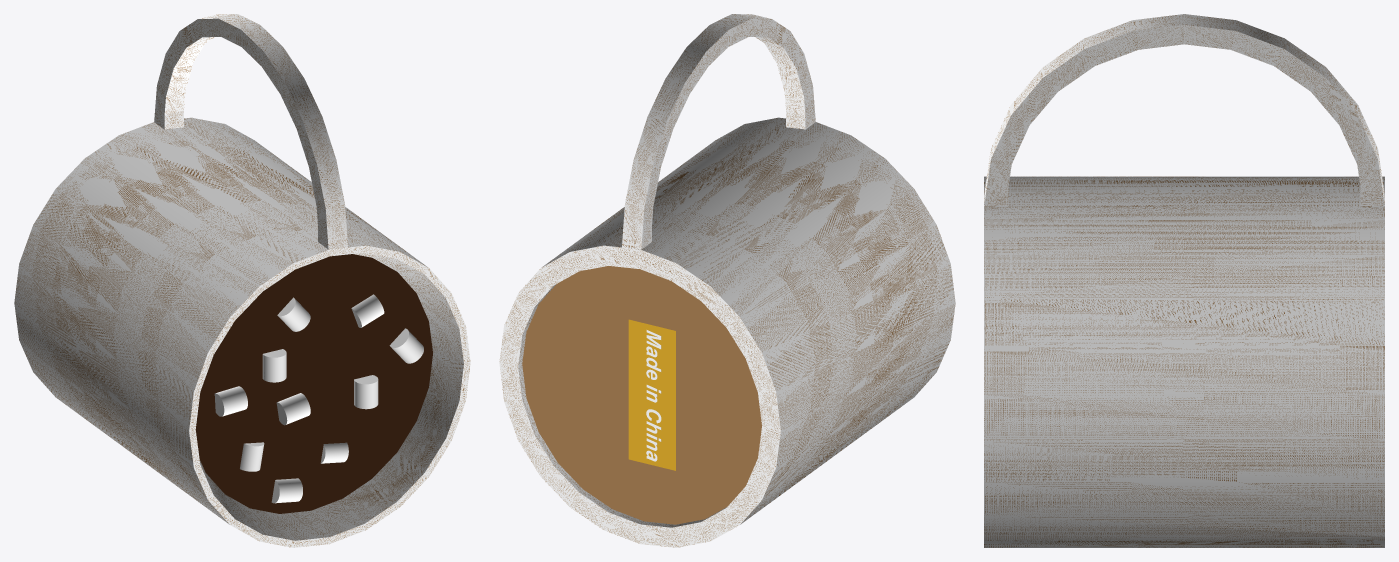
Rendered from model_align.obj.
3 renders of one model, left to right at view 1: azimuth 30°, elevation 25°; view 2: azimuth 150°, elevation 25°; view 3: azimuth 270°, elevation 25°, orthographic. The views are drawn at different scales.
Parts seen in each view (by area): view 1: mesh34_mesh34-geometry, mesh45_mesh45-geometry, mesh43_mesh43-geometry, mesh35_mesh35-geometry, mesh36_mesh36-geometry, mesh42_mesh42-geometry, mesh44_mesh44-geometry, mesh39_mesh39-geometry, mesh38_mesh38-geometry, mesh40_mesh40-geometry; view 2: mesh34_mesh34-geometry; view 3: mesh34_mesh34-geometry.
Part boxes in pixels (x1=…): mesh34_mesh34-geometry: x1=14, y1=14, x2=470, y2=547; mesh45_mesh45-geometry: x1=214, y1=386, x2=247, y2=416; mesh43_mesh43-geometry: x1=276, y1=393, x2=310, y2=425; mesh35_mesh35-geometry: x1=354, y1=375, x2=378, y2=409; mesh36_mesh36-geometry: x1=262, y1=349, x2=286, y2=382; mesh42_mesh42-geometry: x1=389, y1=328, x2=423, y2=363; mesh44_mesh44-geometry: x1=271, y1=478, x2=302, y2=503; mesh39_mesh39-geometry: x1=277, y1=297, x2=310, y2=331; mesh38_mesh38-geometry: x1=351, y1=294, x2=384, y2=327; mesh40_mesh40-geometry: x1=240, y1=442, x2=264, y2=471; mesh34_mesh34-geometry: x1=499, y1=14, x2=955, y2=547; mesh34_mesh34-geometry: x1=984, y1=14, x2=1384, y2=547.
Bounding box in the file's own units: 0.0888 × 0.1358 × 0.0955.
